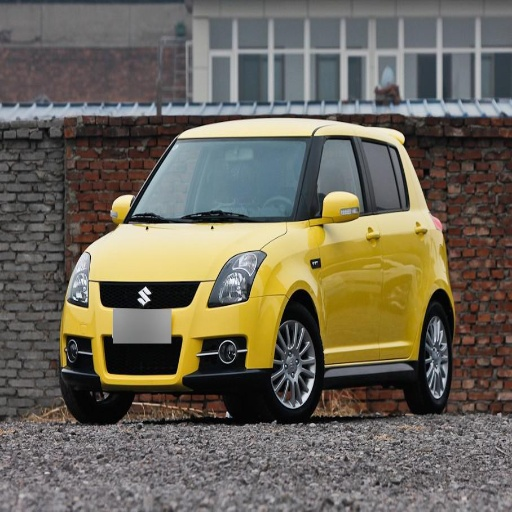front_bumper: (65, 279, 285, 389)
front_glass: (124, 140, 312, 222)
front_left_door: (306, 134, 380, 360)
